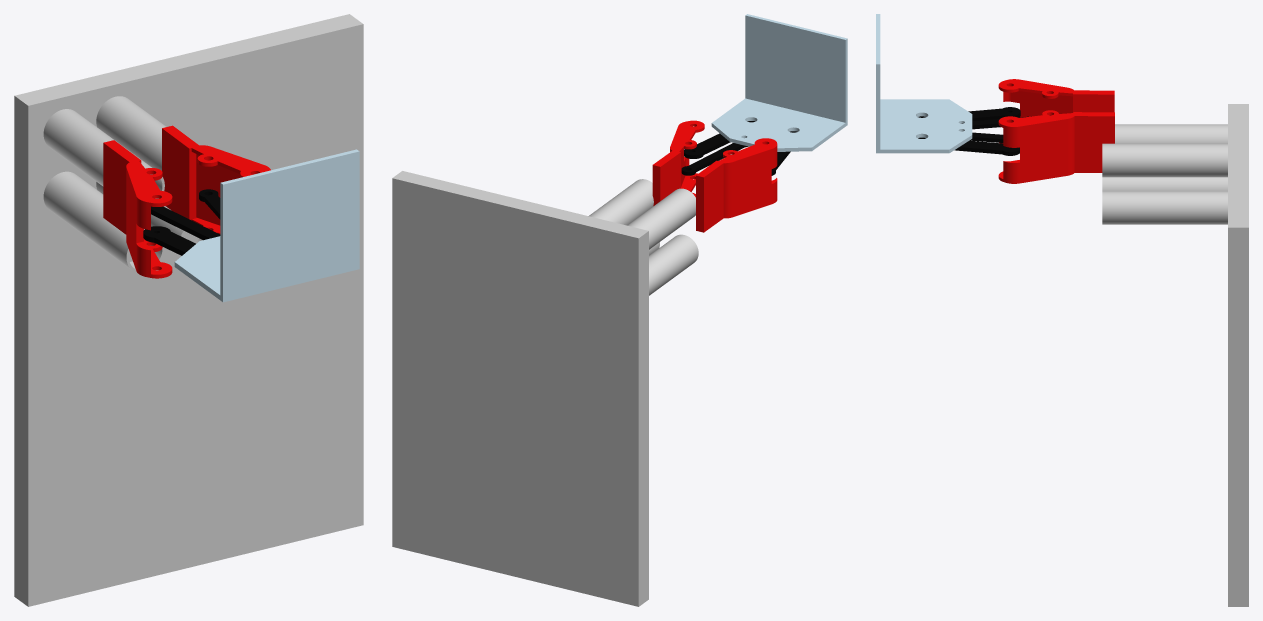
File: Gripper HD.glb
3 renders of one model, left to right at view 1: azimuth 30°, elevation 25°; view 2: azimuth 150°, elevation 25°; view 3: azimuth 270°, elevation 25°, orthographic. The views are drawn at different scales.
Visible parts, largest first — view 1: Part 1 (×6); view 2: Part 1 (×4); view 3: Part 1 (×6).
Boxes of the visible parts, bbox=[...] form: Part 1 (×6): bbox=[14, 14, 363, 606]; Part 1 (×4): bbox=[392, 14, 847, 606]; Part 1 (×6): bbox=[876, 14, 1248, 606].
Bounding box in the file's own units: 0.1558 × 0.2402 × 0.1782.
